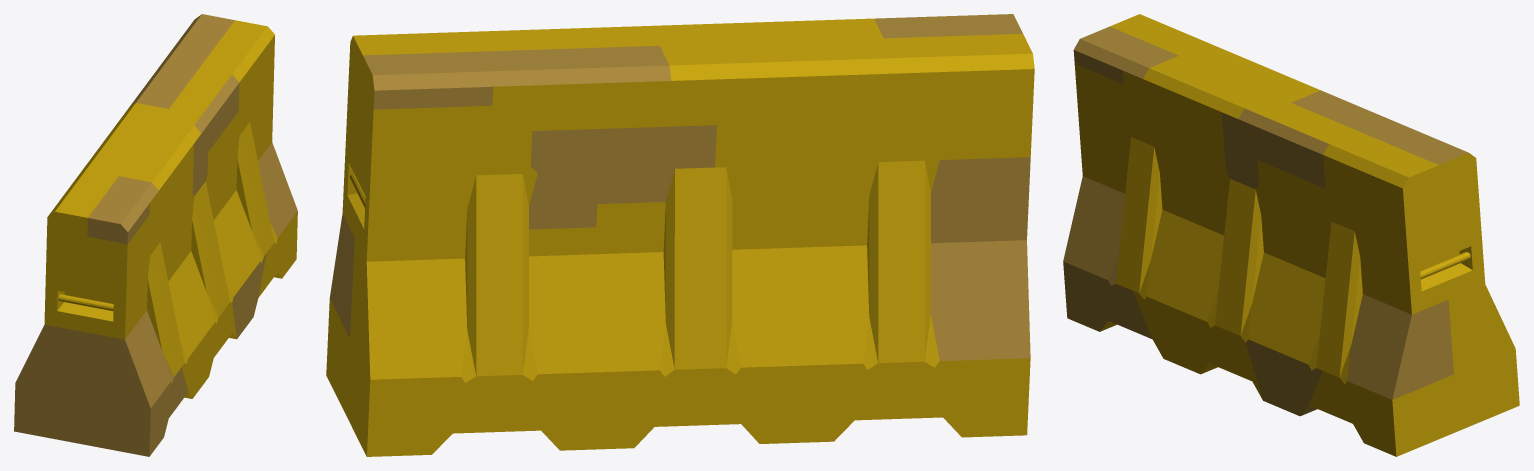
Rendered from plasticbarrier.005_lev1.glb.
3 views of the same model, side by side, from view 1: azimuth 30°, elevation 25°; view 2: azimuth 150°, elevation 25°; view 3: azimuth 270°, elevation 25° (orthographic). The views are drawn at different scales.
Visible parts, largest first — view 1: plasticbarrier.005_lev1; view 2: plasticbarrier.005_lev1; view 3: plasticbarrier.005_lev1.
Part boxes in pixels (box(x1,y1,x2,y2)): plasticbarrier.005_lev1: box(14, 14, 297, 456); plasticbarrier.005_lev1: box(326, 14, 1034, 456); plasticbarrier.005_lev1: box(1063, 14, 1519, 456).
Bounding box in the file's own units: 1.5 × 0.986 × 1.39.
Materials: 1 (1 with a texture image).
